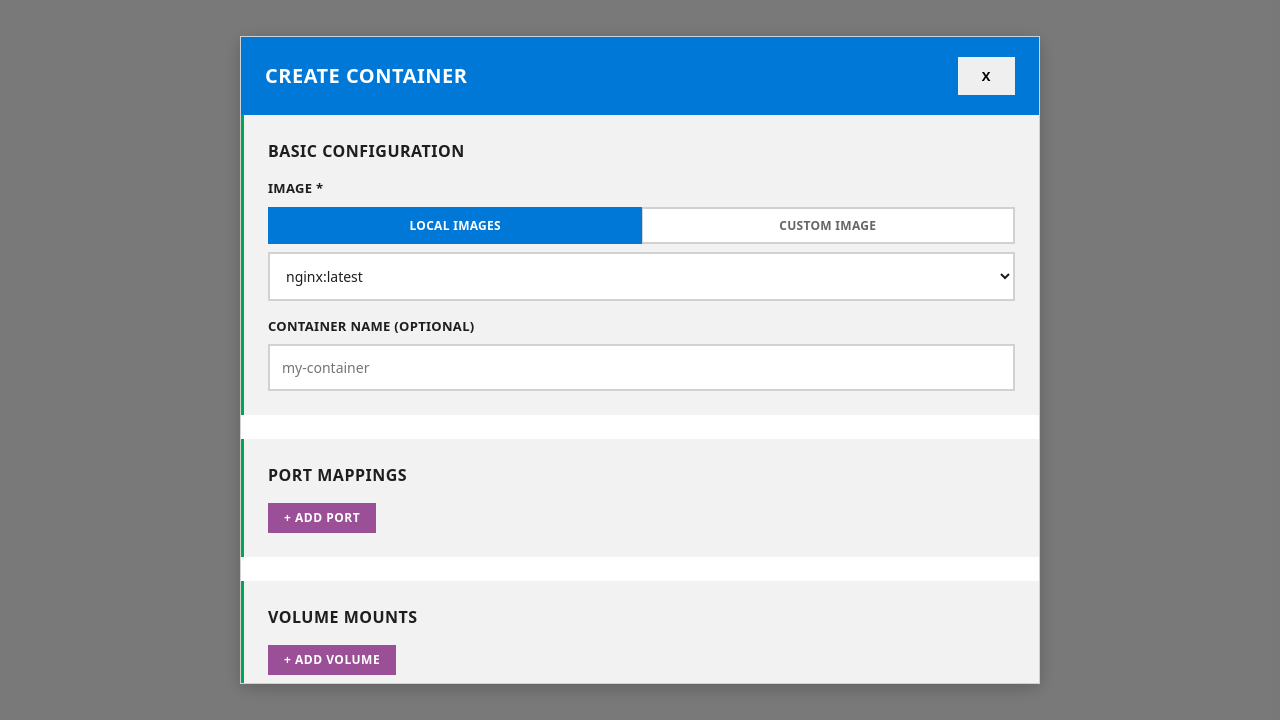
Test: CreateContainer › dynamic form elements › adds volume mount row
Click the button "+ Add Volume": click(332, 660) [268, 645, 396, 675]
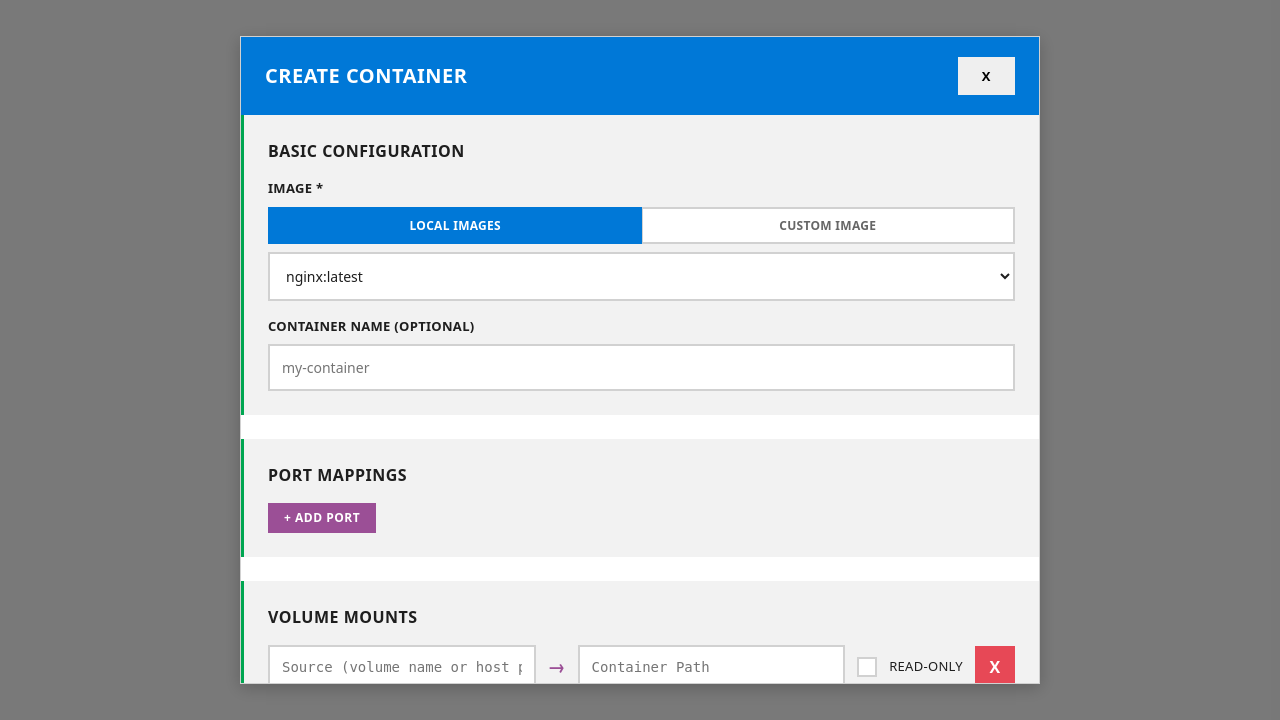
Check: the field with placeholder "Source (volume name or host path)" is shown, box [268, 645, 536, 684]
Check: the field with placeholder "Container Path" is shown, box [578, 645, 845, 684]
